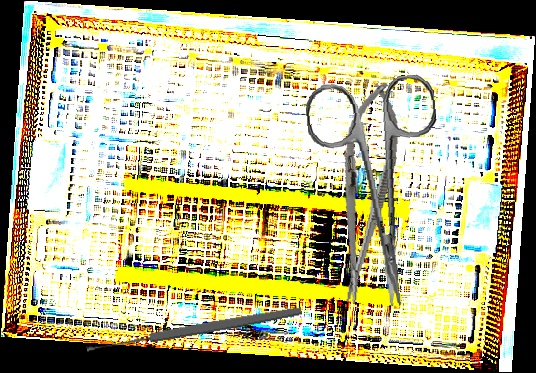Iris Scissors: (303, 72, 456, 315)
Needle Holder: (323, 77, 407, 308)
Surgical Spoon: (85, 304, 303, 355)
